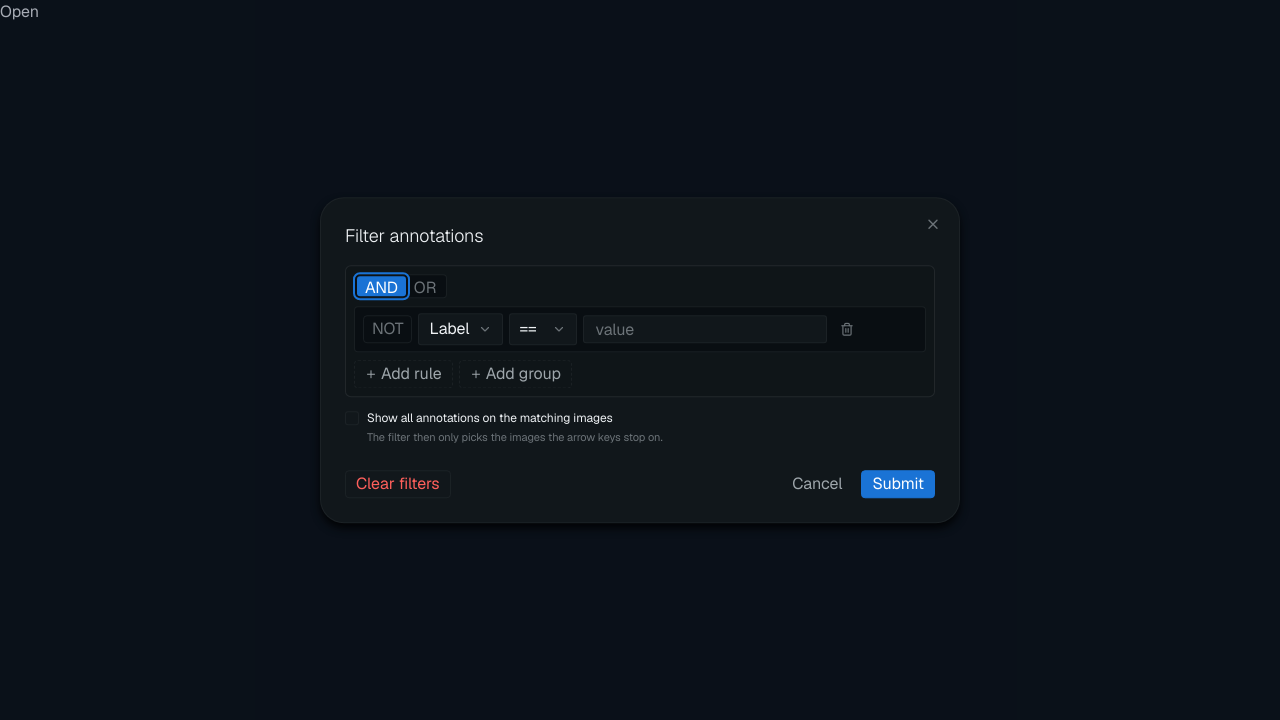
FilterBuilderDialog — Clear filters › 'Clear filters' resets the working tree to one empty rule
The image size is (1280, 720).
# Seed the working tree by adding extra rules.
Step 1. Click the button with test id "filter-add-rule" → (403, 374), box [354,360,453,388]
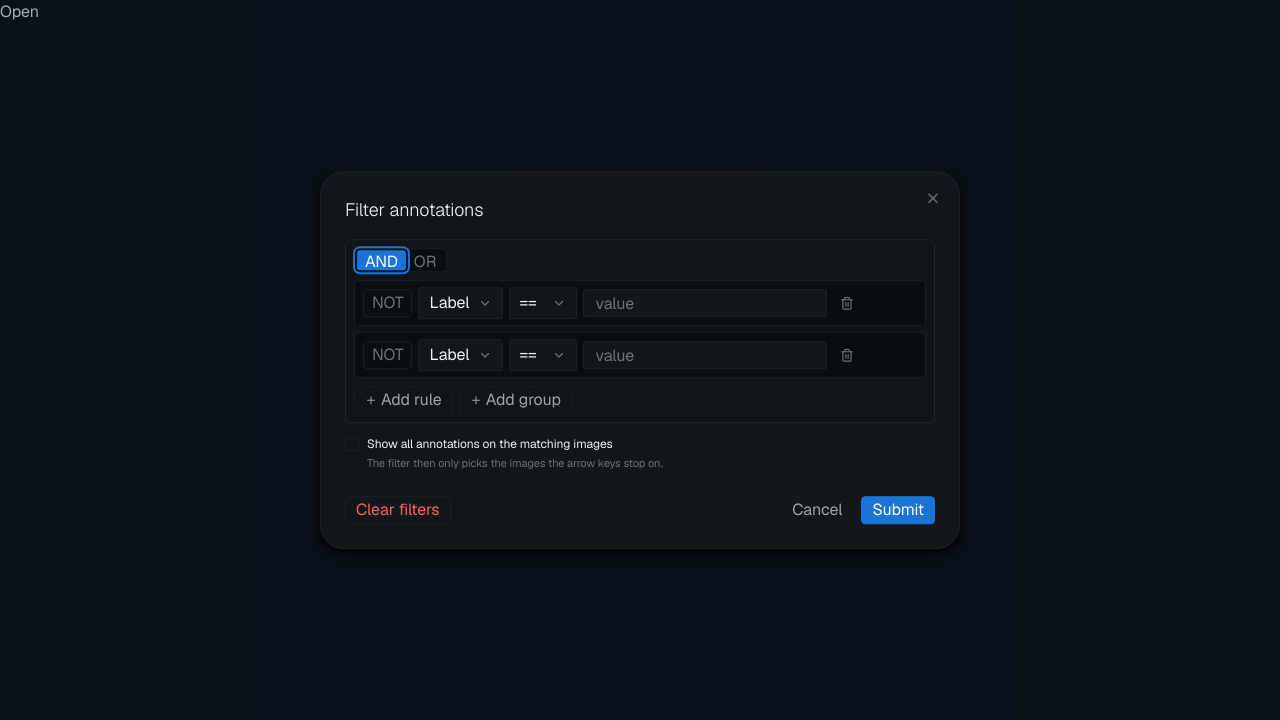
Step 2. Click the button with test id "filter-add-rule" → (403, 400), box [354,386,453,414]
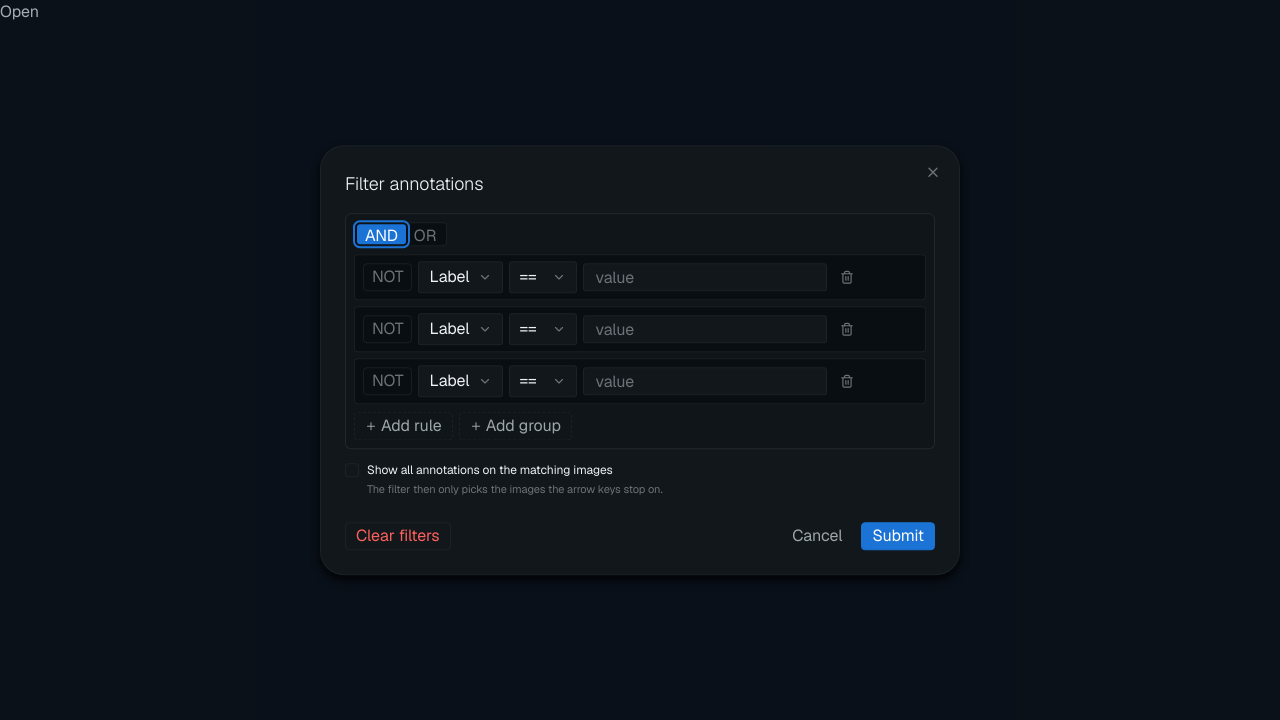
Check: the number of elements with test id "filter-rule-row" is 3, box [354,254,926,300]; [354,306,926,352]; [354,358,926,404]
Step 3. Click the button with test id "filter-clear" → (398, 536), box [345,522,451,550]
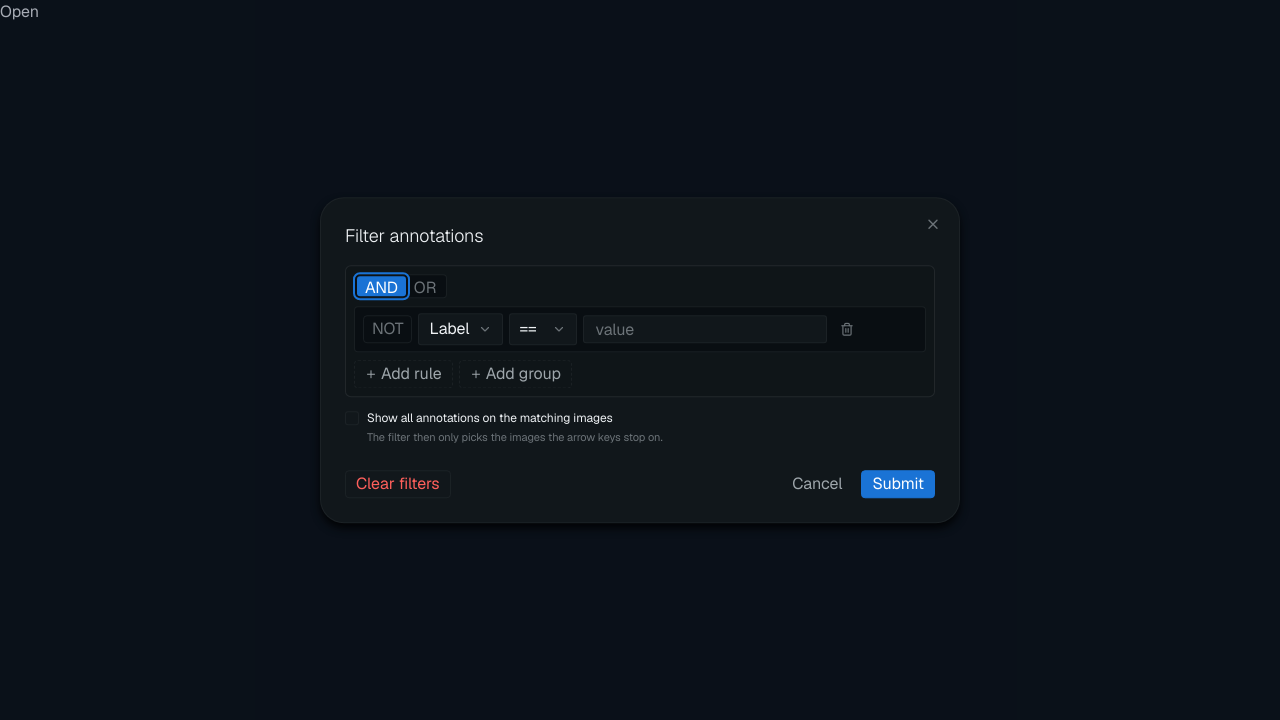
Check: the field with test id "filter-rule-value" is empty, box [583,315,827,343]
Check: the number of elements with test id "filter-rule-row" is 1, box [354,306,926,352]
